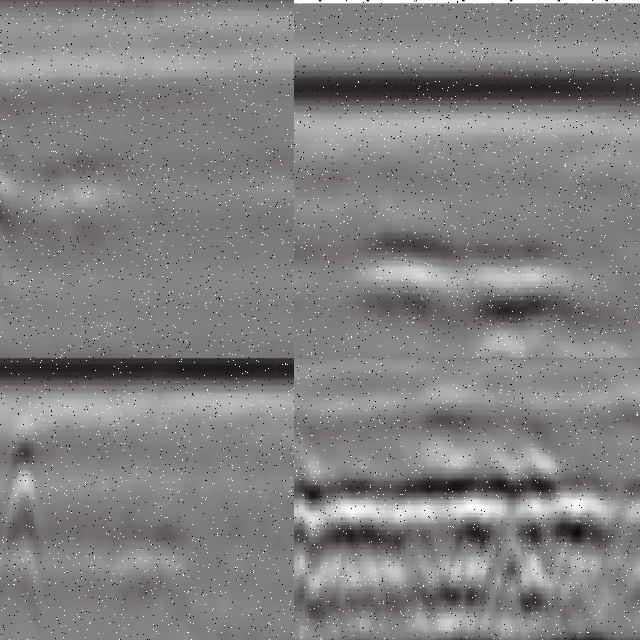crack: (3, 405, 38, 617)
loose: (295, 453, 640, 640), (348, 209, 640, 359), (1, 110, 135, 255)
